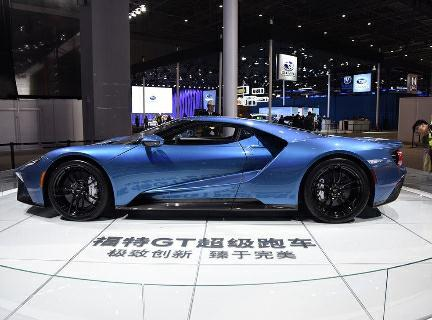福特-GT: (6, 115, 408, 228)
